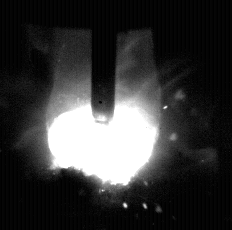arame: (91, 0, 116, 124)
poca: (48, 0, 158, 230)
